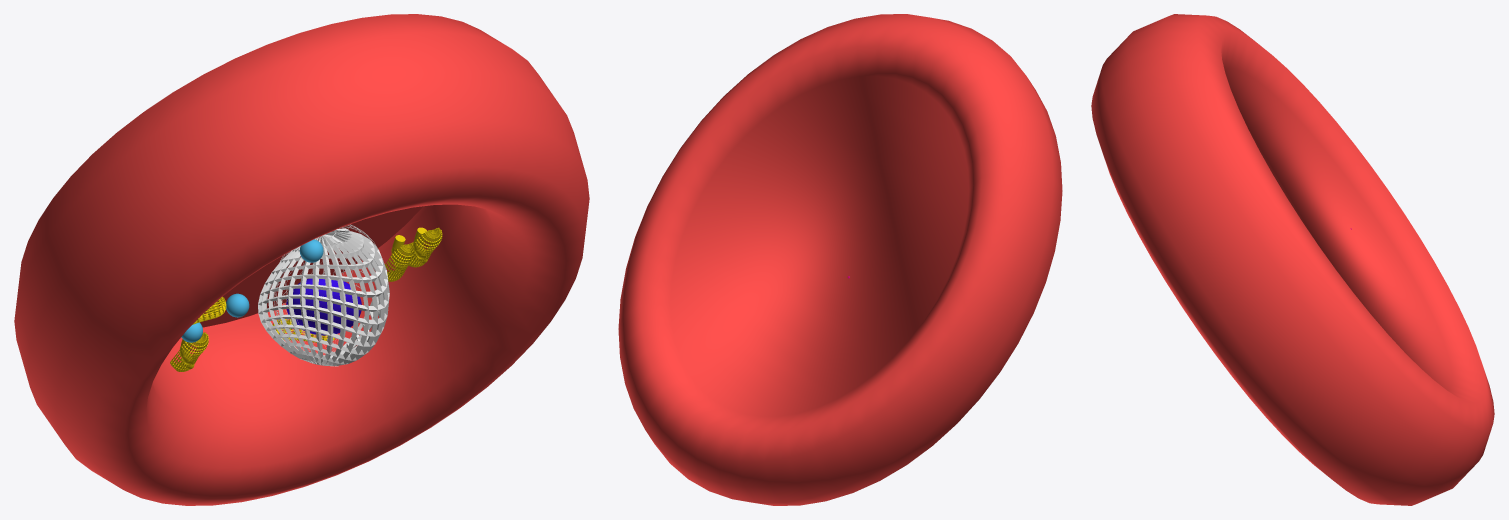
The model's file is red_blood_cell.glb.
3 renders of one model, left to right at view 1: azimuth 30°, elevation 25°; view 2: azimuth 150°, elevation 25°; view 3: azimuth 270°, elevation 25°, orthographic. The views are drawn at different scales.
Parts seen in each view (by area): view 1: Torus, Sphere.004, Sphere, Sphere.006, Sphere.005, Sphere.007; view 2: Torus; view 3: Torus.
Boxes of the visible parts, box(x1,y1,x2,y2) form: Torus: box(14, 14, 589, 505); Sphere.004: box(258, 228, 389, 366); Sphere: box(286, 278, 361, 335); Sphere.006: box(404, 227, 442, 267); Sphere.005: box(385, 242, 416, 281); Sphere.007: box(170, 332, 208, 371); Torus: box(618, 14, 1062, 505); Torus: box(1091, 14, 1494, 505).
Bounding box in the file's own units: 19.45 × 20.4 × 17.47.
